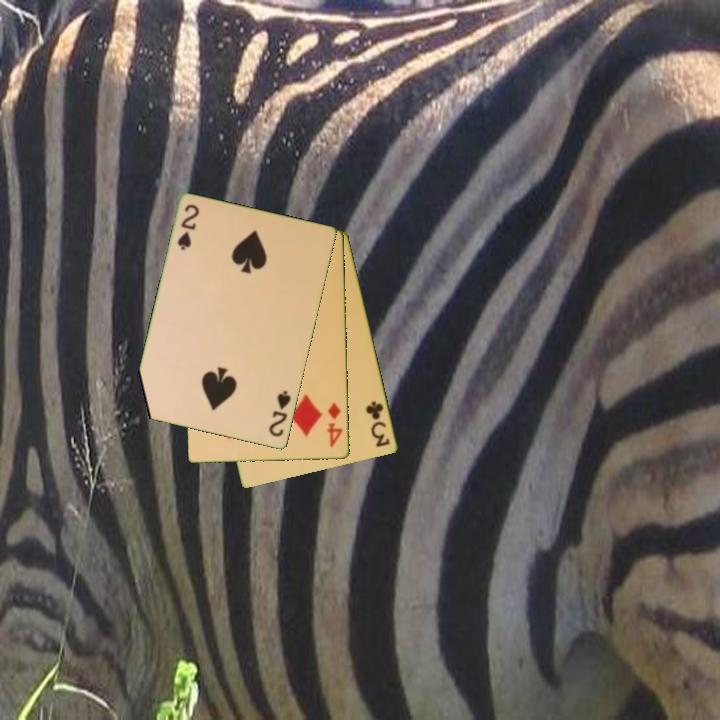2s: (266, 387, 294, 440), (174, 201, 202, 253)
3c: (363, 398, 393, 450)
4d: (324, 399, 345, 450)
